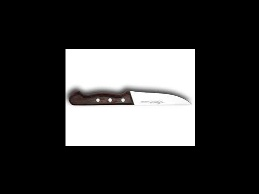k1: (125, 89, 192, 107)
